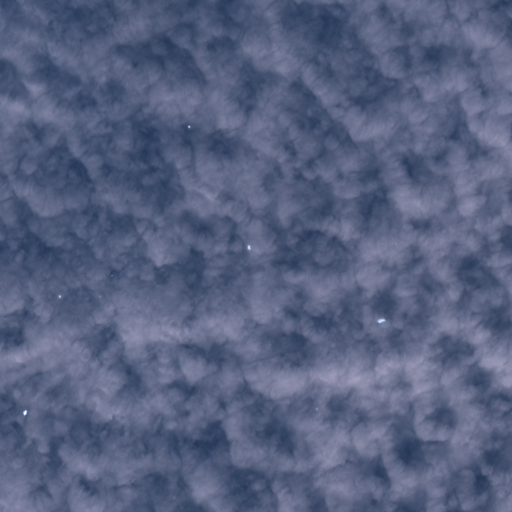Iceberg: (377, 318, 385, 323), (23, 409, 26, 415), (247, 245, 250, 249), (58, 295, 61, 298), (188, 125, 190, 128), (111, 274, 112, 275), (99, 296, 100, 297), (316, 408, 317, 409)
